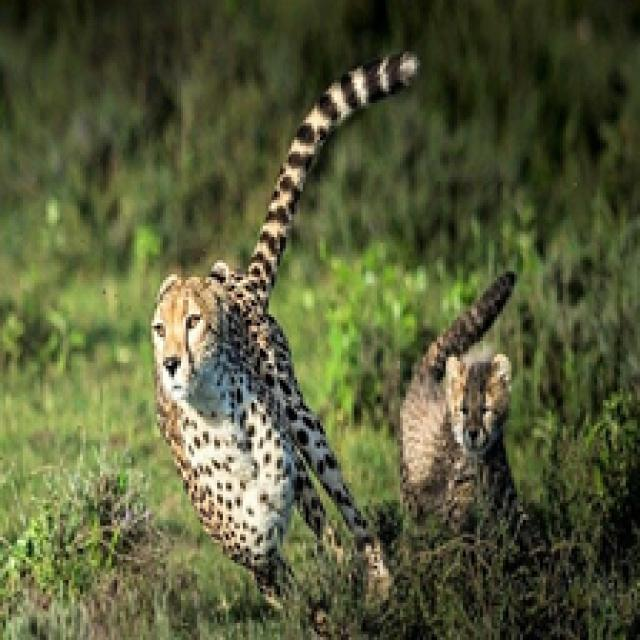cheetah: (139, 51, 424, 606), (382, 256, 540, 536)
